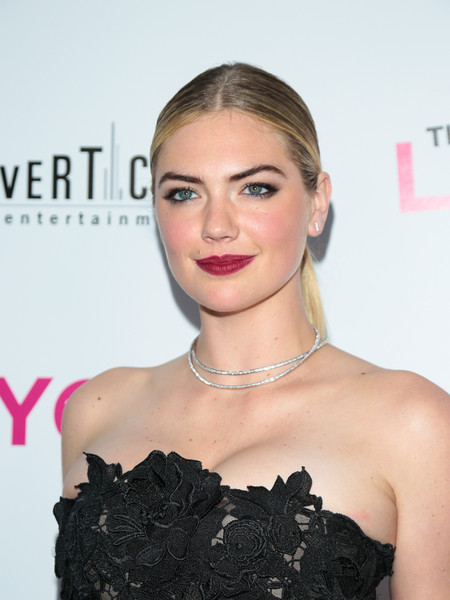mole: (357, 368, 372, 380), (94, 393, 105, 403), (194, 246, 203, 258)
